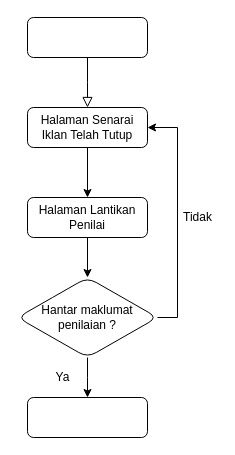
The diagram is 235 pixels wide and 455 high, and some of its shapes have lost their labels. Here are the shapes that lost their labels. From the top down, the centre of each, then its label:
At point (87, 37): "Daftar Penilai".
At point (87, 417): "Penilai 1 & 2 terima notifikasi e-mel".
